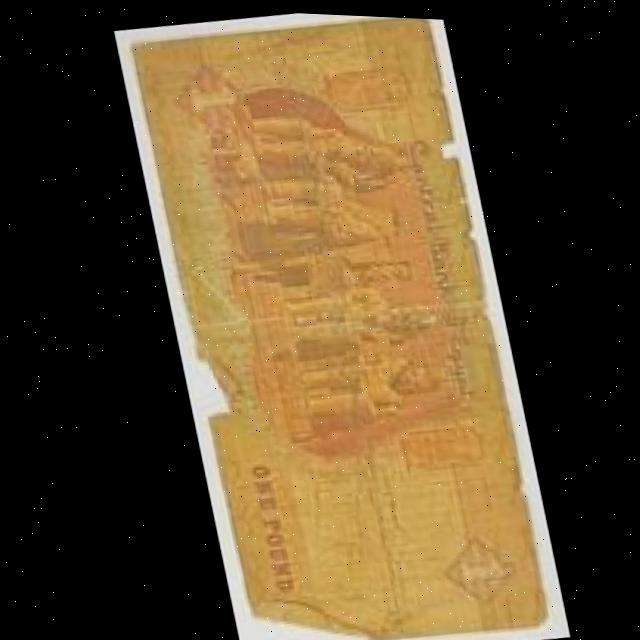banknote: (124, 4, 553, 640)
